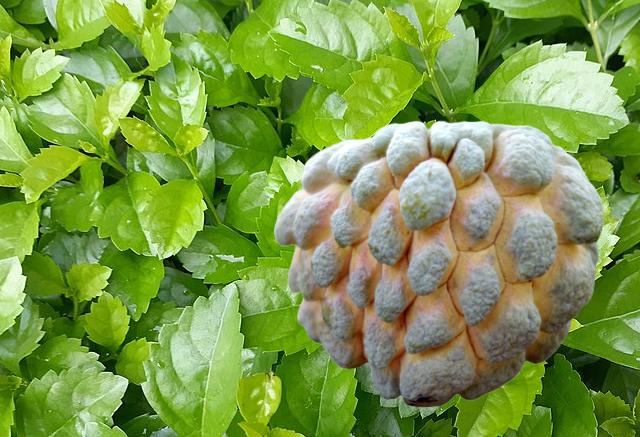atis: (274, 120, 602, 406)
